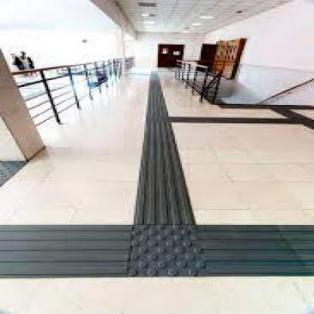Podoctatil: (0, 60, 314, 278)
